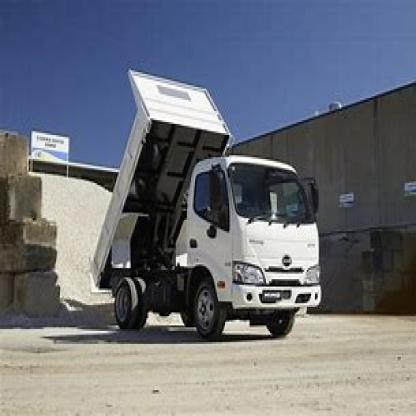dump_truck: (79, 63, 333, 344)
